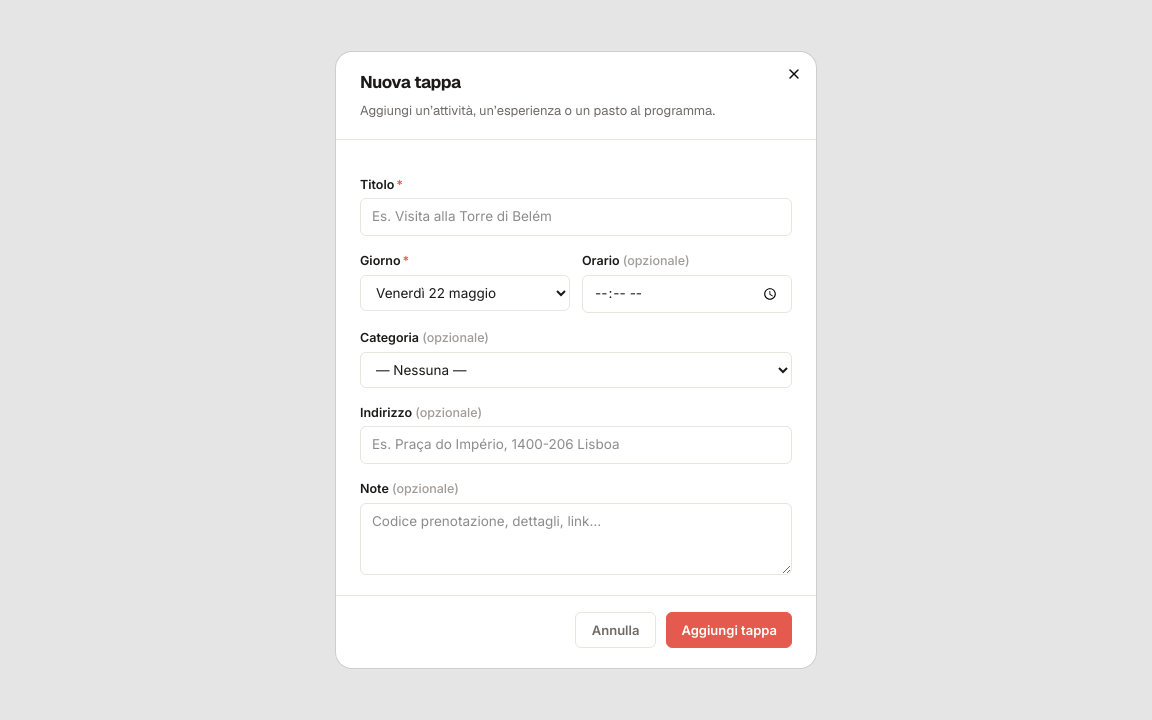
Scenario: AddStopModal › errori di validazione › mostra il messaggio di errore per il campo nome sotto l'input corretto
Click the button "Aggiungi tappa" at (729, 630), box [666,612,792,648]
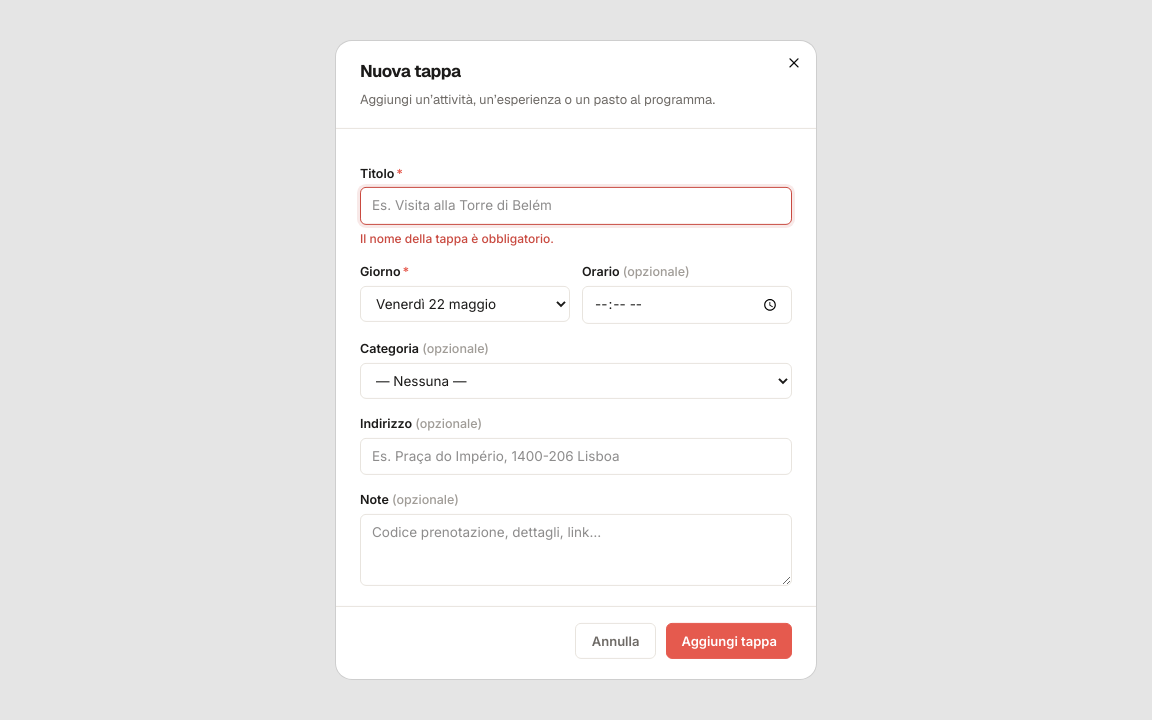
Expected: the text "Il nome della tappa è obbligatorio." is not shown
Expected: the text "Il nome della tappa è obbligatorio." is shown, [360,231,554,246]
